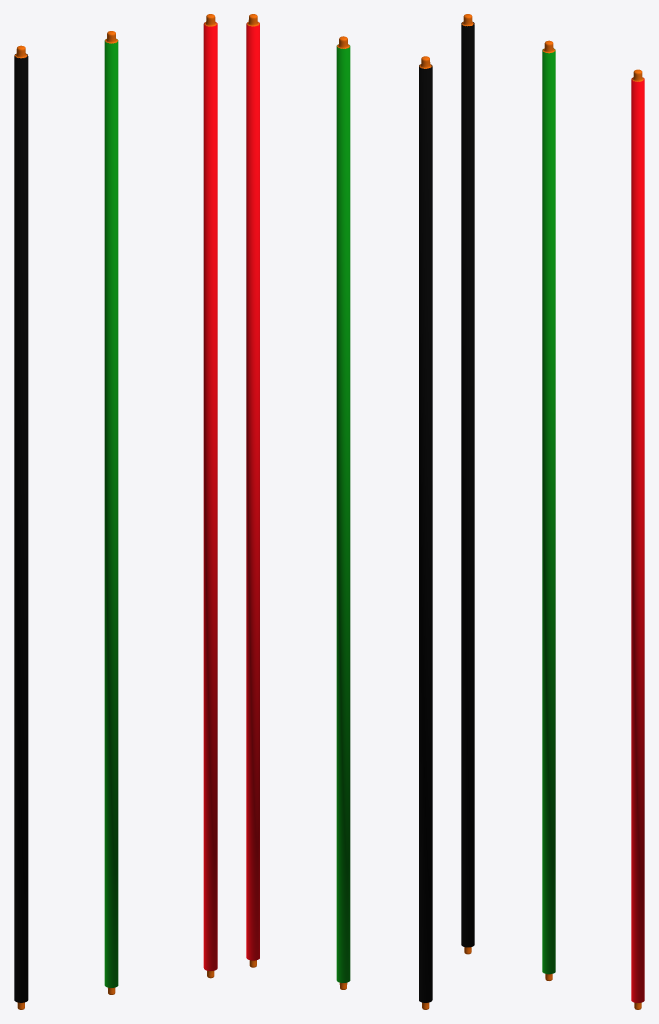
The model's file is wires.fbx.
3 renders of one model, left to right at view 1: azimuth 30°, elevation 25°; view 2: azimuth 150°, elevation 25°; view 3: azimuth 330°, elevation 25°, orthographic. The views are drawn at different scales.
Parts seen in each view (by area): view 1: red wire, red wire.001, red wire.003; view 2: red wire.001, red wire, red wire.003; view 3: red wire.003, red wire, red wire.001.
Boxes of the visible parts, bbox=[...] form: red wire: bbox=[203, 22, 217, 970]; red wire.001: bbox=[104, 39, 118, 987]; red wire.003: bbox=[14, 54, 28, 1002]; red wire.001: bbox=[336, 44, 350, 982]; red wire: bbox=[246, 22, 259, 960]; red wire.003: bbox=[419, 64, 432, 1002]; red wire.003: bbox=[461, 22, 474, 947]; red wire: bbox=[631, 77, 644, 1002]; red wire.001: bbox=[542, 48, 555, 974].
Size of the model in its own units: 6.45 by 30.8 by 0.835.
